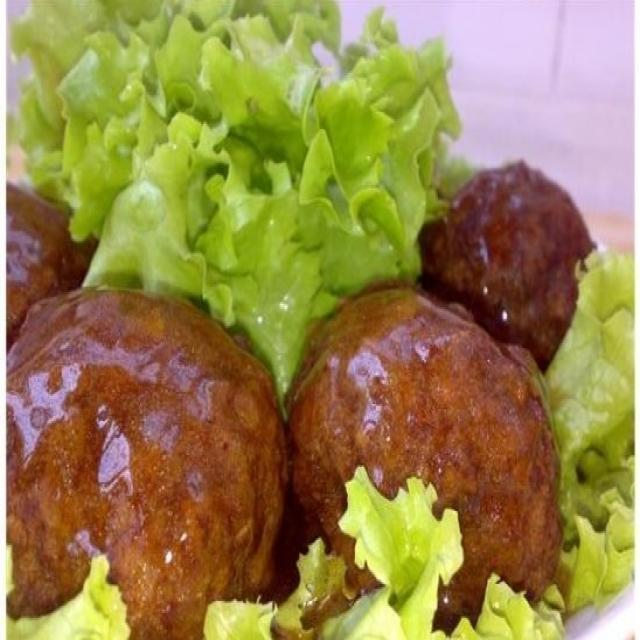猪肉菜式: (13, 16, 612, 622)
